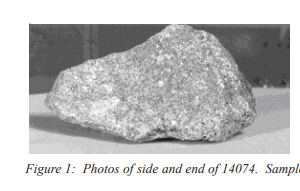Basalt: (50, 26, 278, 150)
